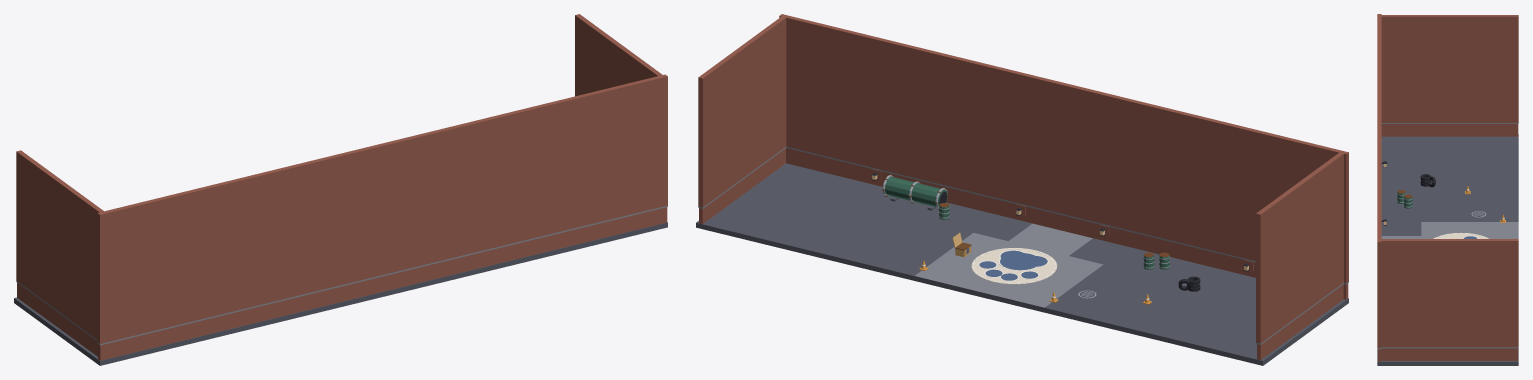
File: CatCafe_Camp_SewerF85.glb
3 views of the same model, side by side, from view 1: azimuth 30°, elevation 25°; view 2: azimuth 150°, elevation 25°; view 3: azimuth 270°, elevation 25° (orthographic). The views are drawn at different scales.
Visible parts, largest first — view 1: CatCafe_Camp_SewerF85_Barrier, CatCafe_Camp_SewerF85; view 2: CatCafe_Camp_SewerF85_Barrier, CatCafe_Camp_SewerF85, CatCafe_Camp_SewerF85_002_PipeLarge; view 3: CatCafe_Camp_SewerF85_Barrier, CatCafe_Camp_SewerF85, CatCafe_Camp_SewerF85_012_TyreStack.
Part boxes in pixels (<box>): CatCafe_Camp_SewerF85_Barrier: <box>16,14,667,343</box>; CatCafe_Camp_SewerF85: <box>14,205,667,365</box>; CatCafe_Camp_SewerF85_Barrier: <box>698,14,1348,343</box>; CatCafe_Camp_SewerF85: <box>696,146,1348,365</box>; CatCafe_Camp_SewerF85_002_PipeLarge: <box>882,174,948,210</box>; CatCafe_Camp_SewerF85_Barrier: <box>1377,14,1518,347</box>; CatCafe_Camp_SewerF85: <box>1377,123,1518,365</box>; CatCafe_Camp_SewerF85_012_TyreStack: <box>1420,174,1435,187</box>.
Size of the model in its own units: 122 by 31 by 32.
Materials: 1 (1 with a texture image).
